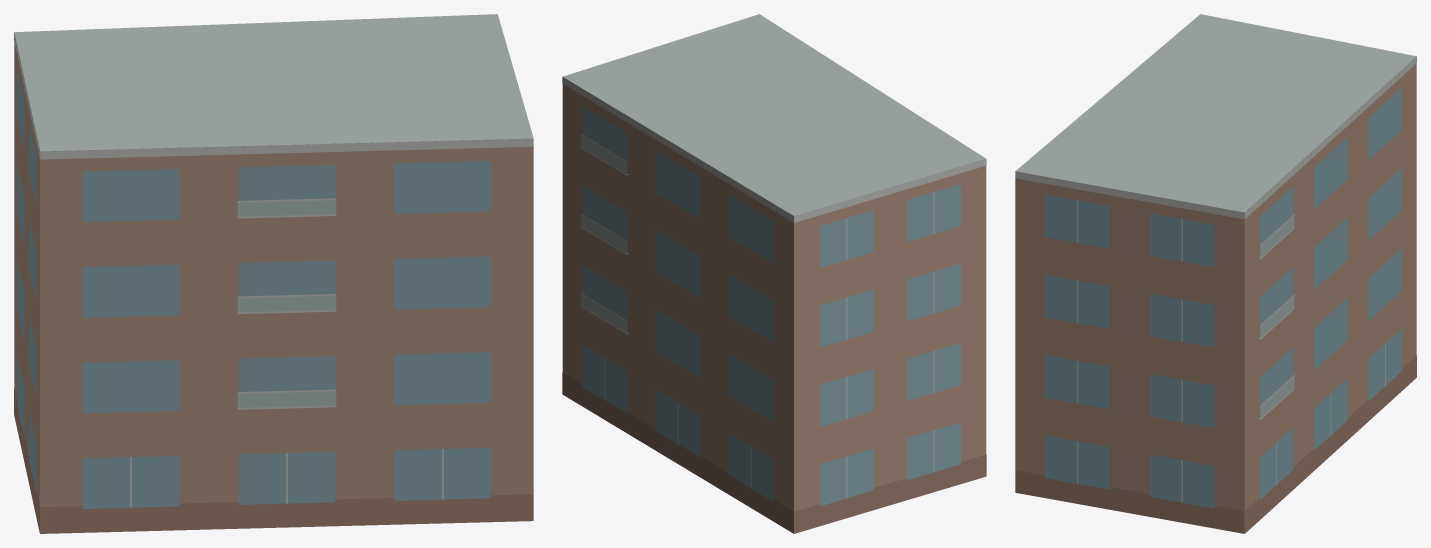
The model's file is survey-upis-32727867.glb.
The picture shows the model from 3 angles, left to right: view 1: azimuth 30°, elevation 25°; view 2: azimuth 150°, elevation 25°; view 3: azimuth 270°, elevation 25°; orthographic projection. The views are drawn at different scales.
Parts seen in each view (by area): view 1: survey-upis-32727867.tmp; view 2: survey-upis-32727867.tmp; view 3: survey-upis-32727867.tmp.
Boxes of the visible parts, x1,y1,x2,y2 form: survey-upis-32727867.tmp: [14, 14, 533, 533]; survey-upis-32727867.tmp: [562, 14, 986, 533]; survey-upis-32727867.tmp: [1015, 14, 1416, 533].
Size of the model in its own units: 14.98 by 11.3 by 12.8.
